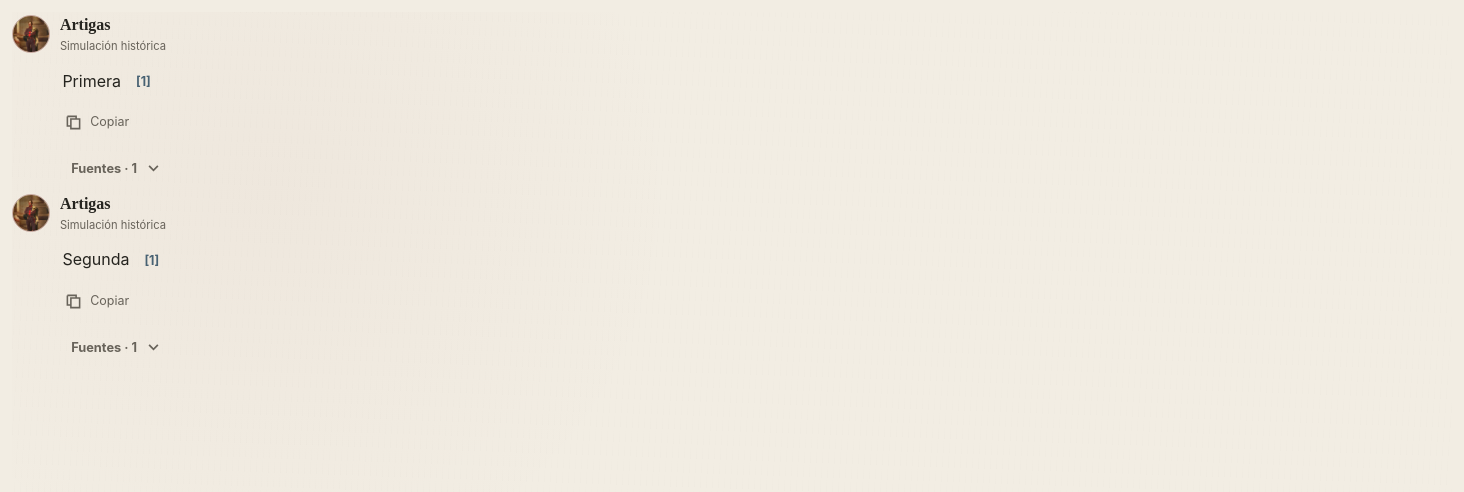
Test: keeps marker navigation isolated between assistant answers
Click the button named "Ver fuente 1". click: (143, 82)
box: [121,60,165,104]
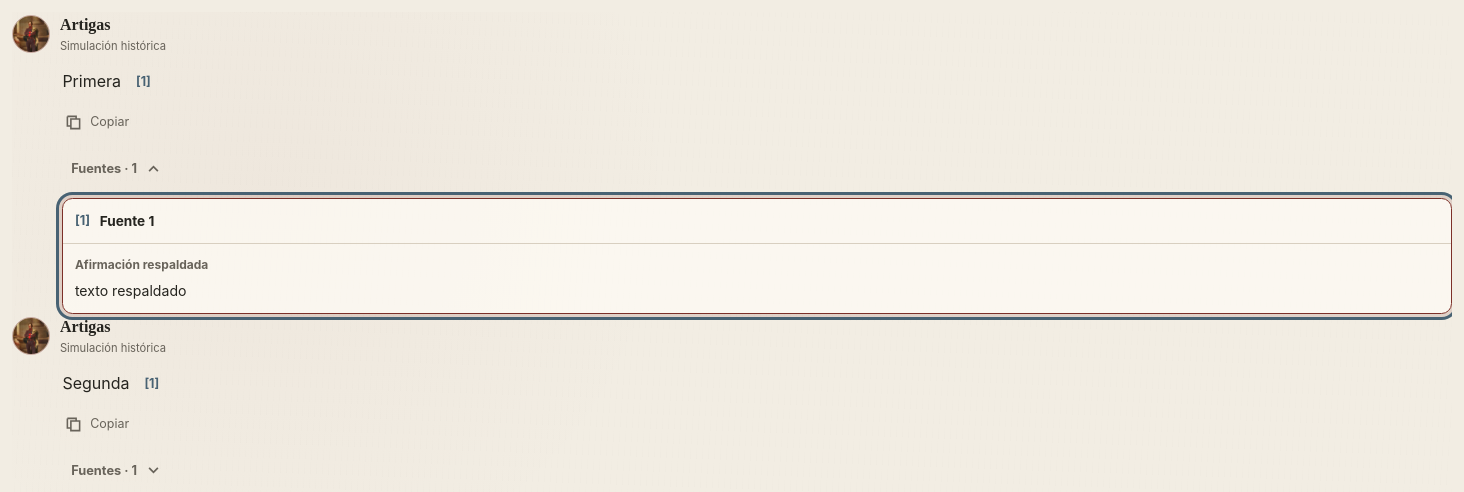
Check: the text "texto respaldado" is shown, box [75,282,186,299]
